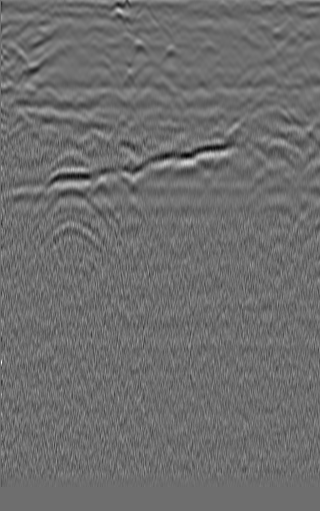가스: (0, 138, 242, 211)
오수: (23, 15, 43, 35)
우수: (156, 41, 176, 61)
